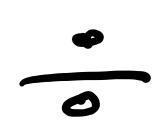div: (19, 29, 151, 117)
